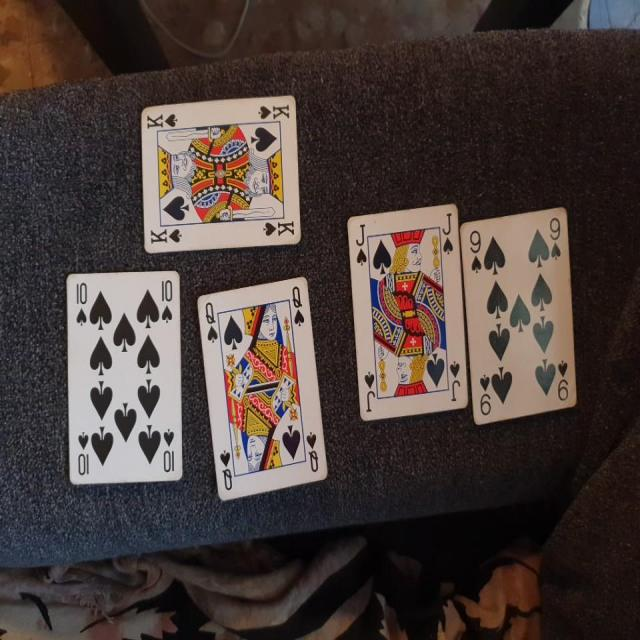10 Spades: (62, 267, 186, 489)
9 Spades: (459, 197, 582, 434)
J Spades: (341, 192, 472, 431)
K Spades: (135, 90, 309, 260)
Q Spades: (198, 269, 334, 506)
